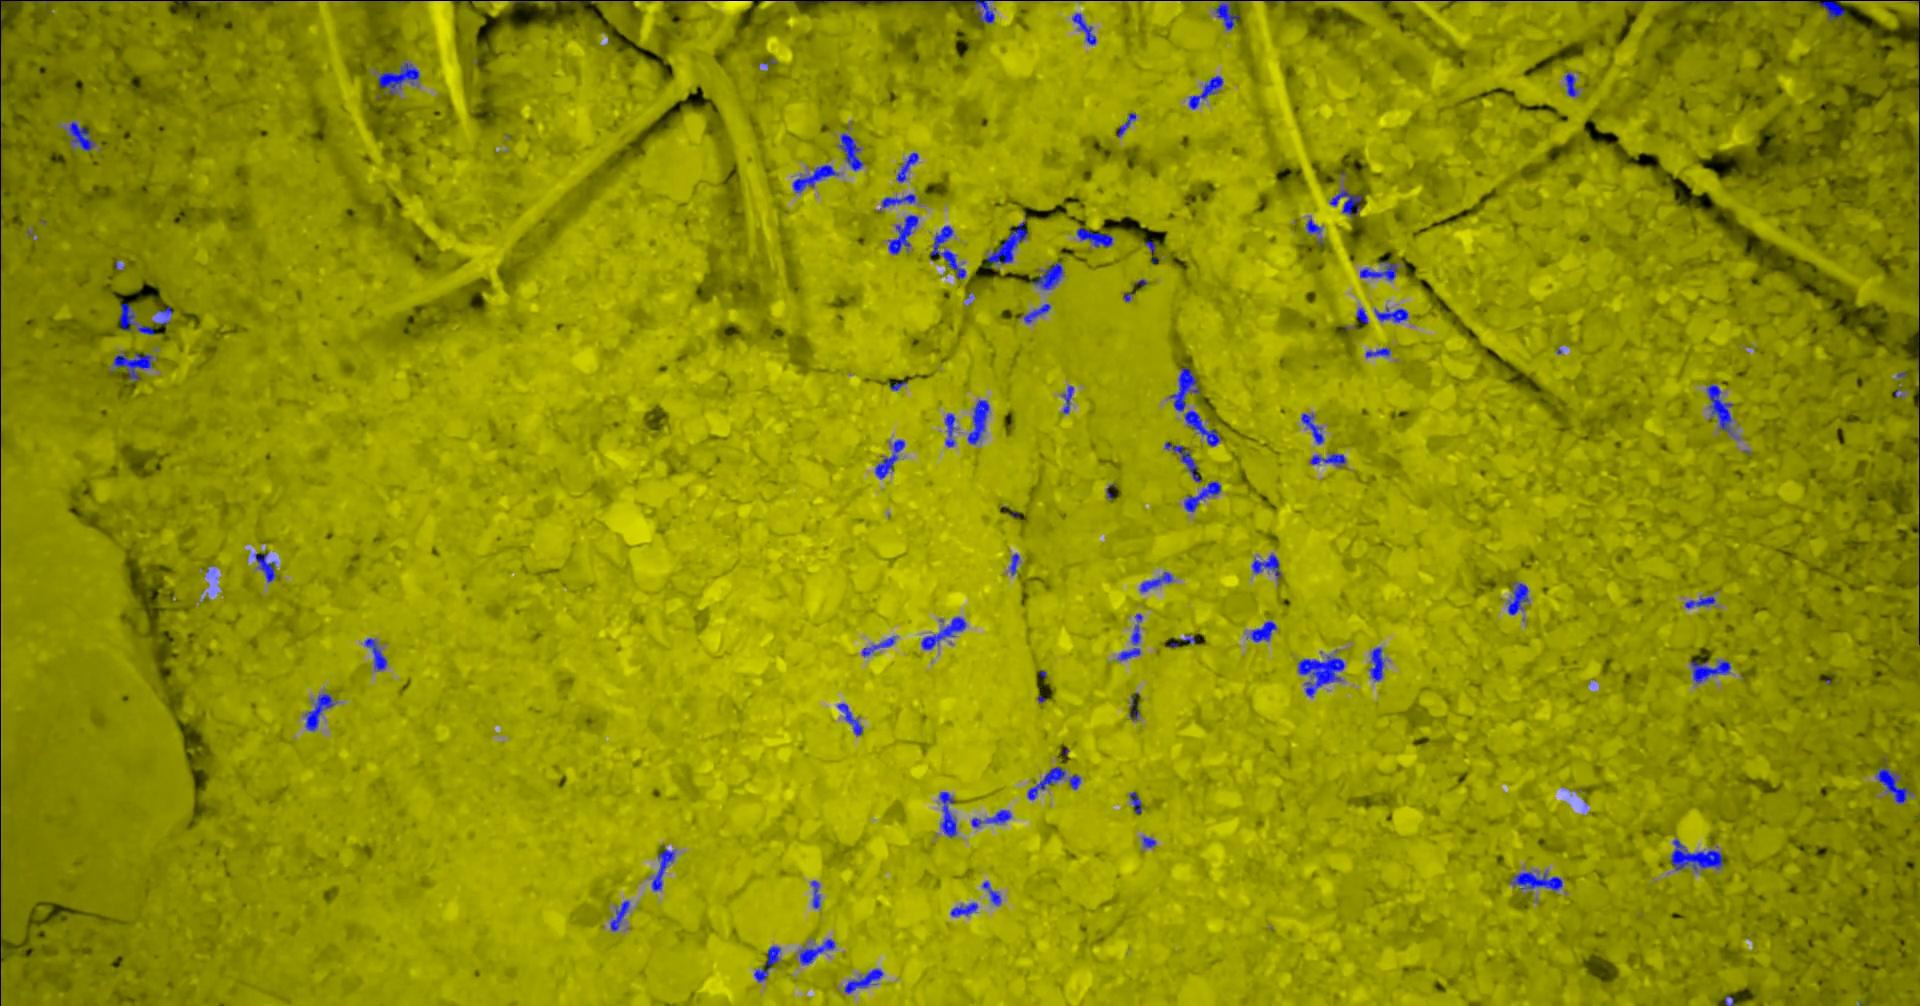ant: (1170, 367, 1220, 446), (883, 0, 994, 22), (1297, 655, 1343, 697), (985, 221, 1027, 267), (930, 225, 965, 278), (1670, 838, 1723, 871), (1705, 384, 1737, 437), (921, 616, 966, 649), (1164, 441, 1200, 481), (377, 62, 419, 95), (792, 164, 838, 192), (1027, 766, 1065, 799), (1876, 767, 1910, 803), (888, 213, 918, 253), (874, 439, 904, 478), (1117, 614, 1142, 661), (1189, 75, 1222, 109), (303, 694, 334, 730), (113, 351, 152, 379), (1183, 481, 1220, 511), (651, 846, 674, 890), (843, 968, 883, 993), (1510, 871, 1562, 890), (799, 937, 834, 964), (753, 945, 780, 981), (968, 399, 988, 445), (1330, 189, 1361, 218), (1690, 661, 1730, 683), (839, 133, 863, 170), (1032, 260, 1062, 290), (837, 702, 862, 735), (938, 791, 956, 837), (1214, 0, 1239, 30), (1070, 13, 1095, 44), (1076, 226, 1112, 246), (69, 121, 93, 151), (1359, 260, 1397, 279), (1251, 554, 1280, 578), (1302, 413, 1323, 445), (364, 638, 386, 669), (971, 809, 1010, 827), (895, 152, 918, 182), (861, 636, 895, 655), (1507, 582, 1528, 614), (1139, 572, 1172, 591), (254, 553, 276, 580), (610, 901, 629, 931), (1250, 620, 1276, 641), (1818, 0, 1845, 20), (1369, 647, 1384, 681), (1023, 304, 1050, 323), (1374, 307, 1407, 323), (881, 193, 916, 207), (118, 302, 135, 330), (1116, 112, 1135, 136), (982, 880, 1001, 904), (1684, 596, 1716, 608), (950, 902, 977, 916), (943, 413, 954, 447), (1310, 453, 1345, 464), (1062, 385, 1073, 413), (1564, 72, 1577, 97), (155, 306, 171, 324), (810, 880, 820, 908), (1129, 791, 1142, 813), (1365, 347, 1390, 357), (1129, 696, 1139, 720), (1305, 218, 1321, 232), (1010, 553, 1018, 574), (1356, 307, 1368, 323), (1068, 774, 1079, 789), (137, 324, 154, 334), (1142, 836, 1156, 847), (1683, 0, 1733, 1), (0, 138, 1, 189)
